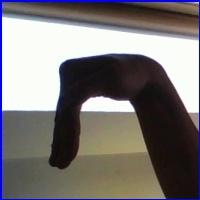A: (48, 50, 169, 176)
